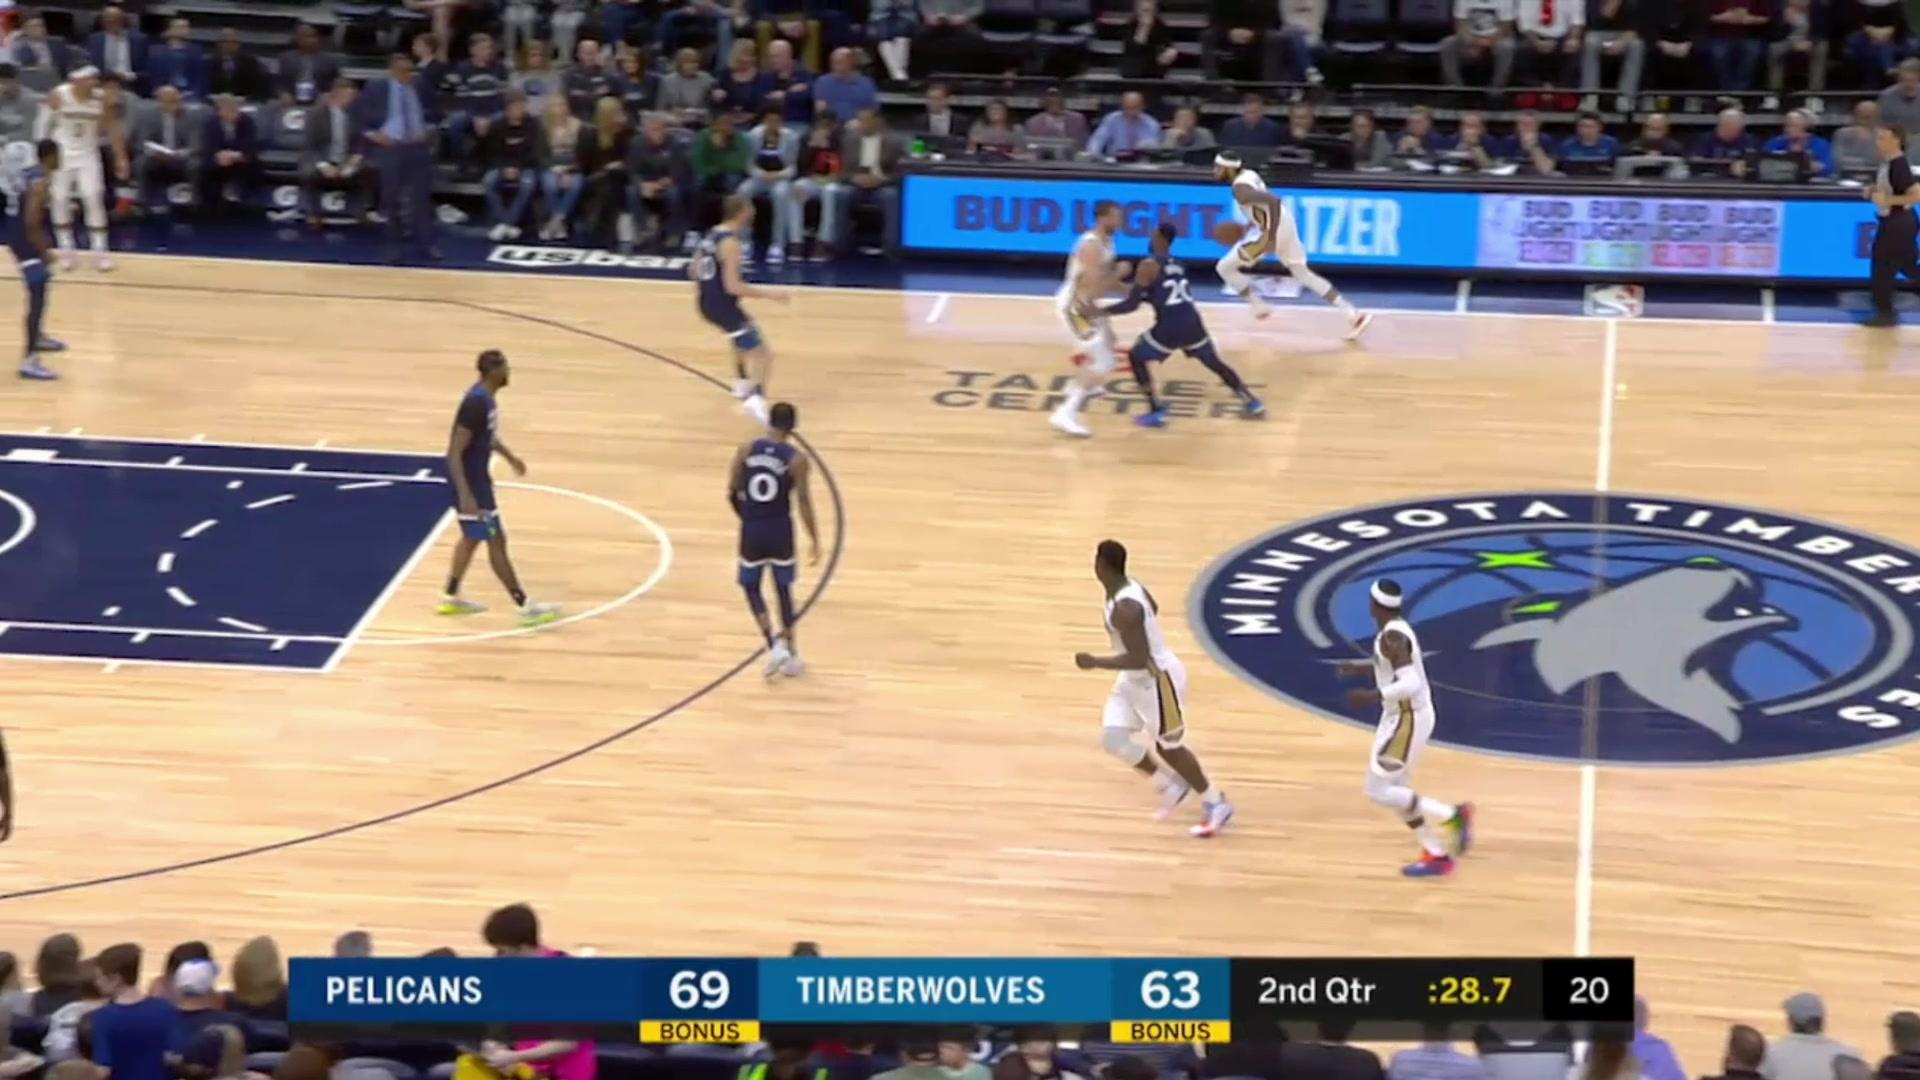no_foul: (1050, 195, 1212, 429)
